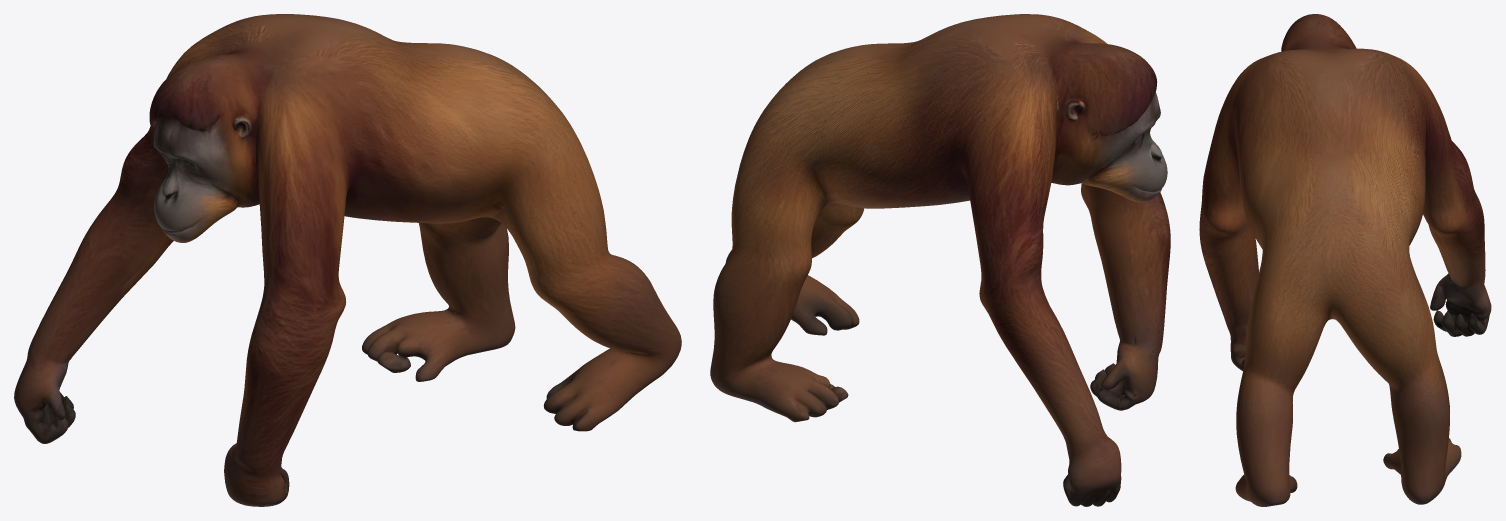
Rendered from bornean-orangutan.glb.
The picture shows the model from 3 angles, left to right: view 1: azimuth 30°, elevation 25°; view 2: azimuth 150°, elevation 25°; view 3: azimuth 270°, elevation 25°; orthographic projection. The views are drawn at different scales.
Parts seen in each view (by area): view 1: node_0; view 2: node_0; view 3: node_0.
Part boxes in pixels (x1,y1,x2,y2): node_0: (14, 14, 681, 506); node_0: (710, 14, 1170, 506); node_0: (1199, 14, 1491, 506).
Size of the model in its own units: 0.9448 by 0.7046 by 0.5337.
1 material, 1 textured.
